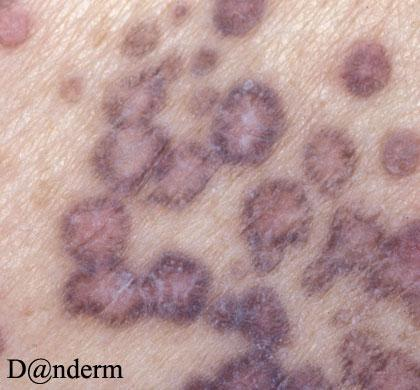annular lichen planus: (32, 4, 409, 343)
